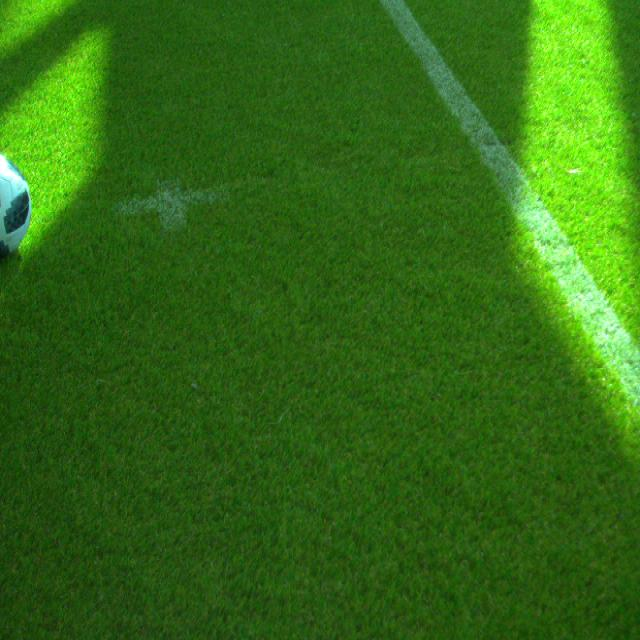ball: (0, 152, 36, 260)
